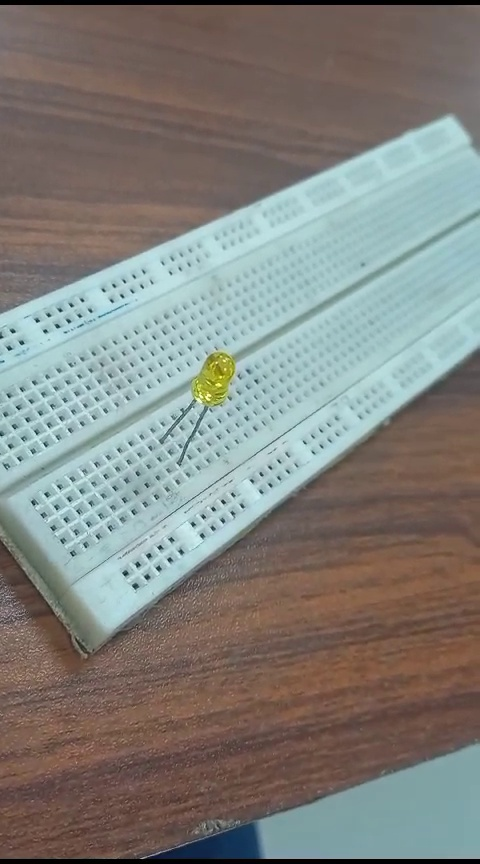LED: (171, 347, 236, 456)
